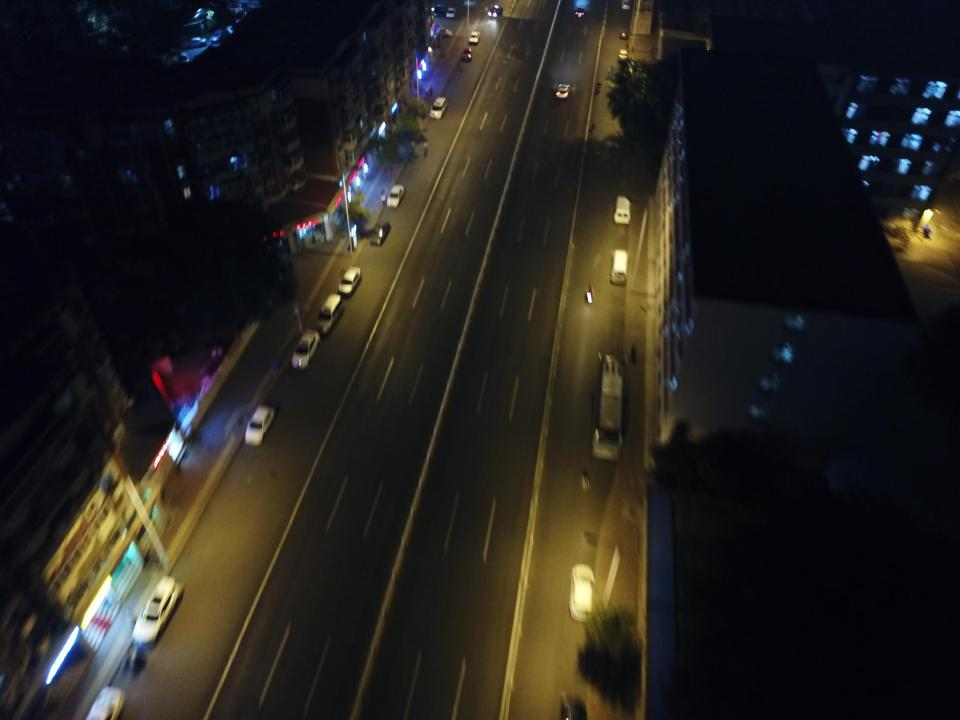bus: (592, 350, 623, 460)
car: (132, 576, 182, 646), (568, 562, 594, 622), (244, 405, 275, 446), (291, 330, 320, 369), (339, 266, 361, 294), (369, 218, 390, 244), (430, 96, 447, 118), (387, 185, 404, 207), (555, 84, 570, 98), (488, 4, 502, 17), (431, 5, 443, 17), (462, 47, 472, 61), (573, 7, 585, 18), (469, 31, 479, 44), (618, 49, 627, 62), (618, 28, 628, 39), (446, 7, 456, 18), (621, 0, 631, 10)
van: (316, 293, 344, 334), (610, 249, 628, 284), (613, 197, 631, 224)
